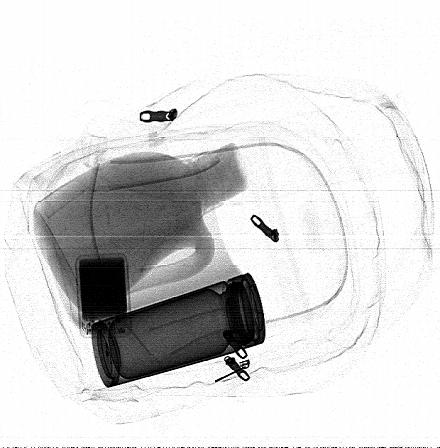Powerbank: (75, 252, 132, 339)
